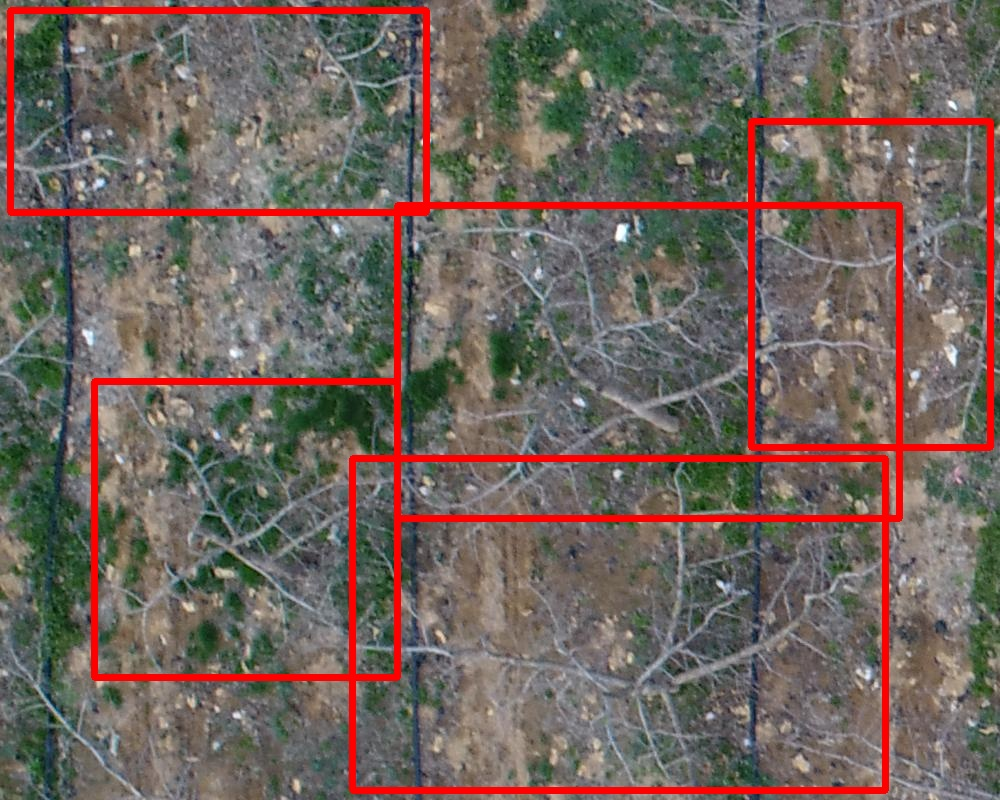apple: (352, 458, 885, 790), (397, 205, 899, 518), (94, 381, 397, 677), (10, 10, 426, 212), (751, 121, 990, 447)
